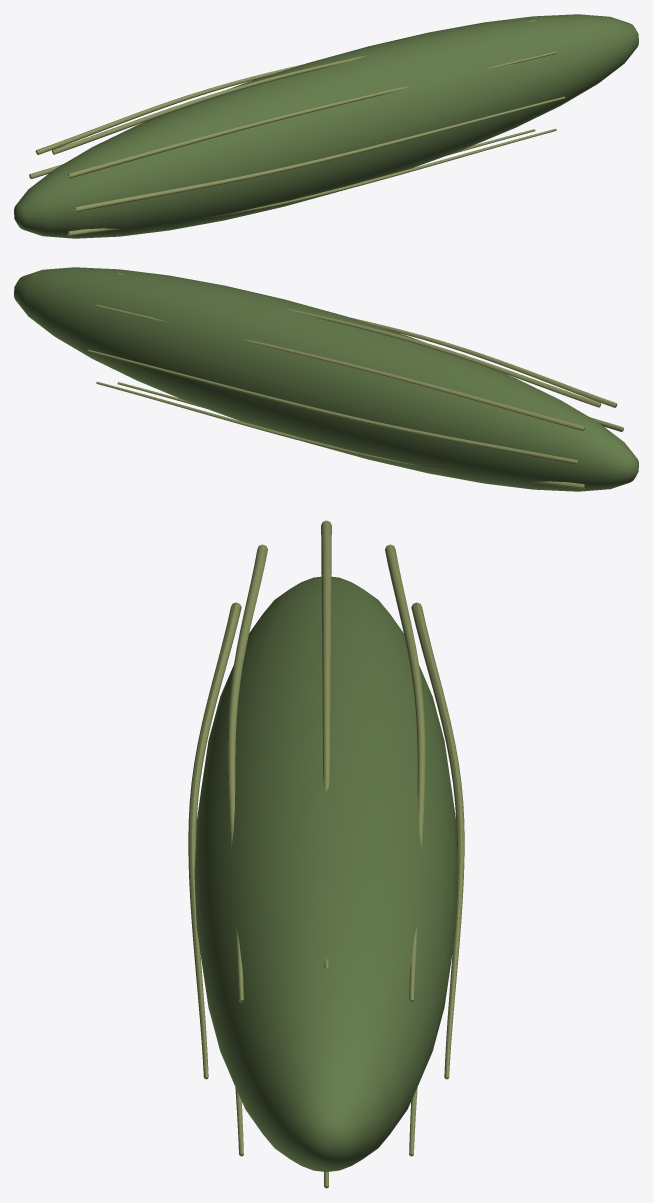
Rendered from props_p5__p5_cucumber.glb.
3 renders of one model, top to bottom at view 1: azimuth 30°, elevation 25°; view 2: azimuth 150°, elevation 25°; view 3: azimuth 270°, elevation 25°, orthographic. The views are drawn at different scales.
Visible parts, largest first — view 1: cucumber, reference_static_surfaces; view 2: cucumber, reference_static_surfaces; view 3: cucumber, reference_static_surfaces.
Boxes of the visible parts, x1,y1,x2,y2 form: cucumber: (14,14,638,238); reference_static_surfaces: (29,20,565,236); cucumber: (14,267,638,491); reference_static_surfaces: (87,273,623,489); cucumber: (194,576,458,1171); reference_static_surfaces: (188,520,464,1188).
Bounding box in the file's own units: 0.2408 × 0.0462 × 0.0462.
